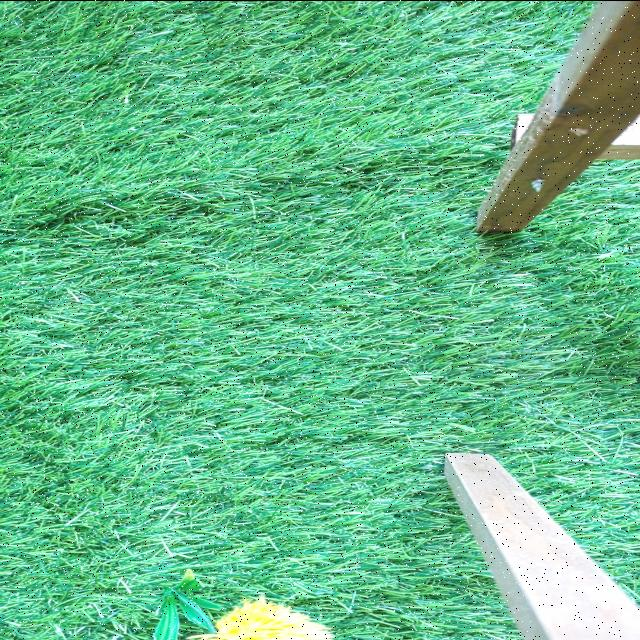base: (151, 568, 216, 640)
flower: (192, 599, 345, 640)
